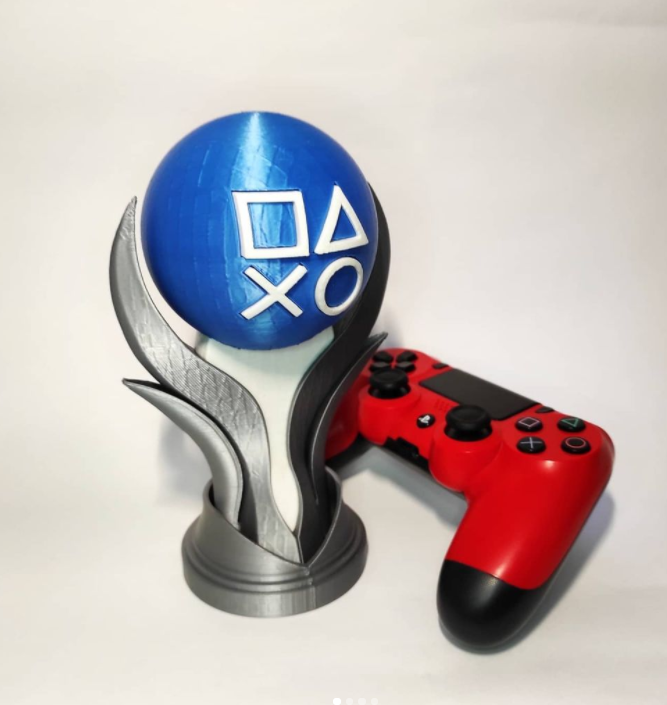gamingconsole: (324, 342, 616, 646)
